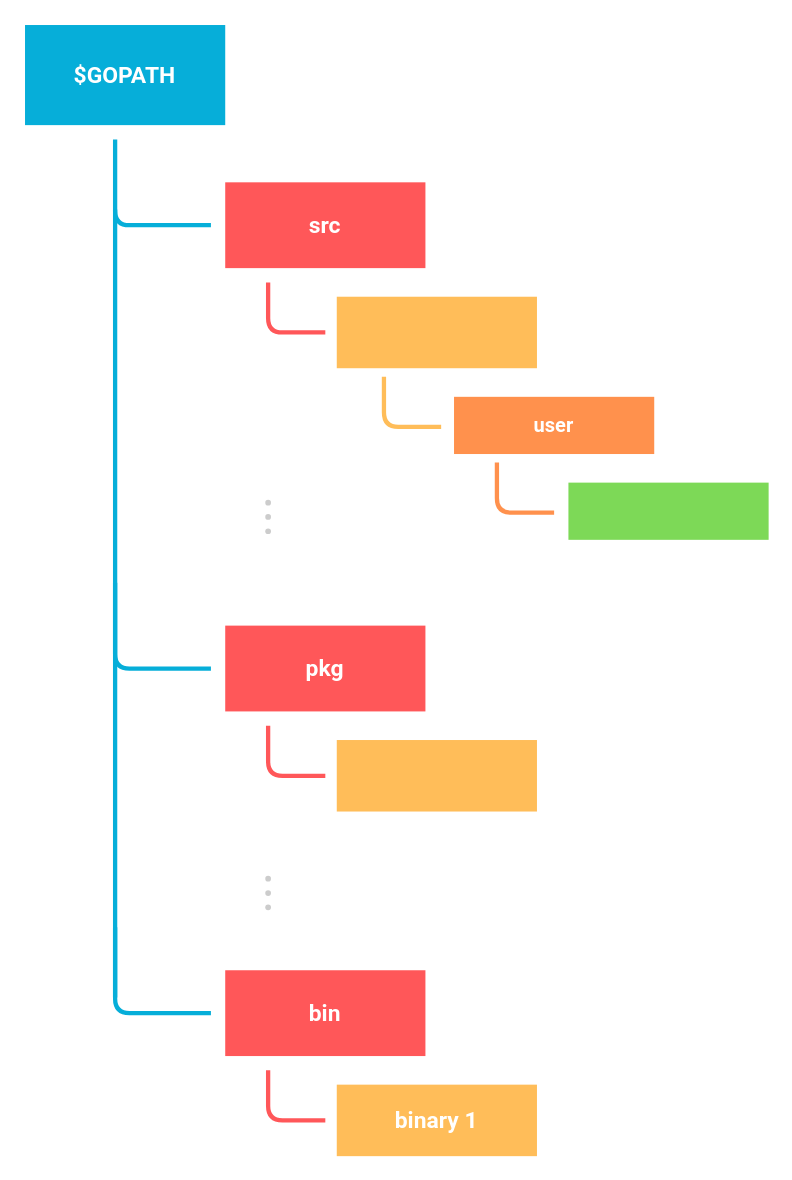
Some shapes in this 792 by 1180 pixel diagram are drawn without their labels. The shapes that lost their labels are listed below. From the top down, each one's centre as x and y in pixels, then its label:
At (x=436, y=332): "github.com".
At (x=668, y=510): "project".
At (x=436, y=775): "dependency".
